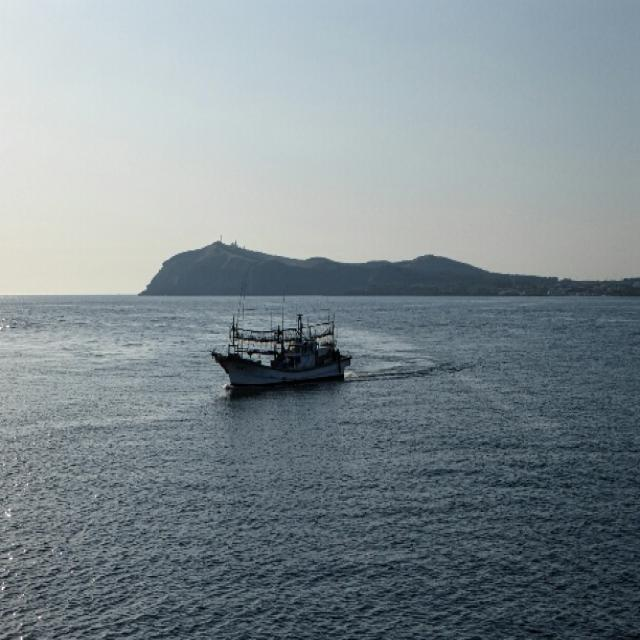fishing boat: (216, 308, 358, 393)
